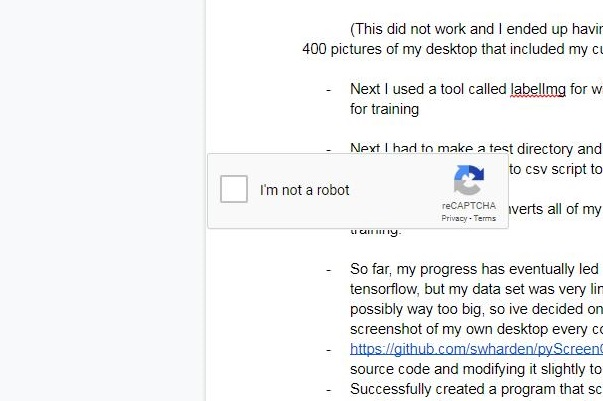captcha: (220, 174, 352, 203)
